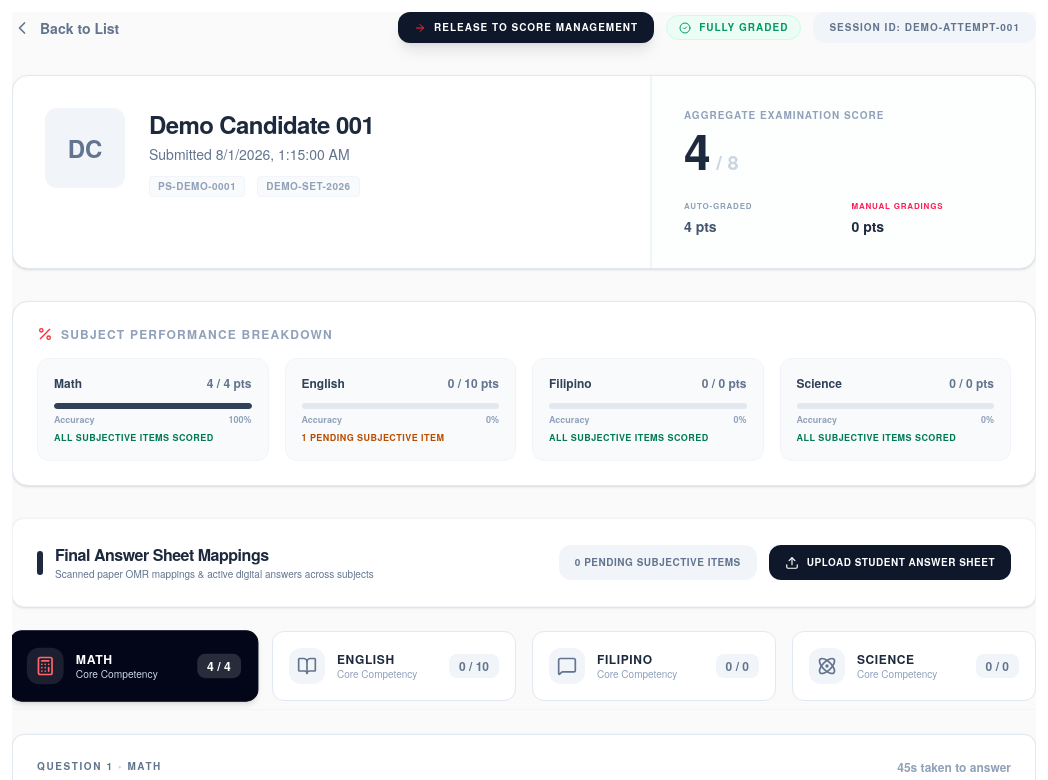
Test case: ExamReviewDetail › releases a completed graded review through the backend
Step 1. Click the button "Release to Score Management" → [526, 28], box 398,12 -> 654,43
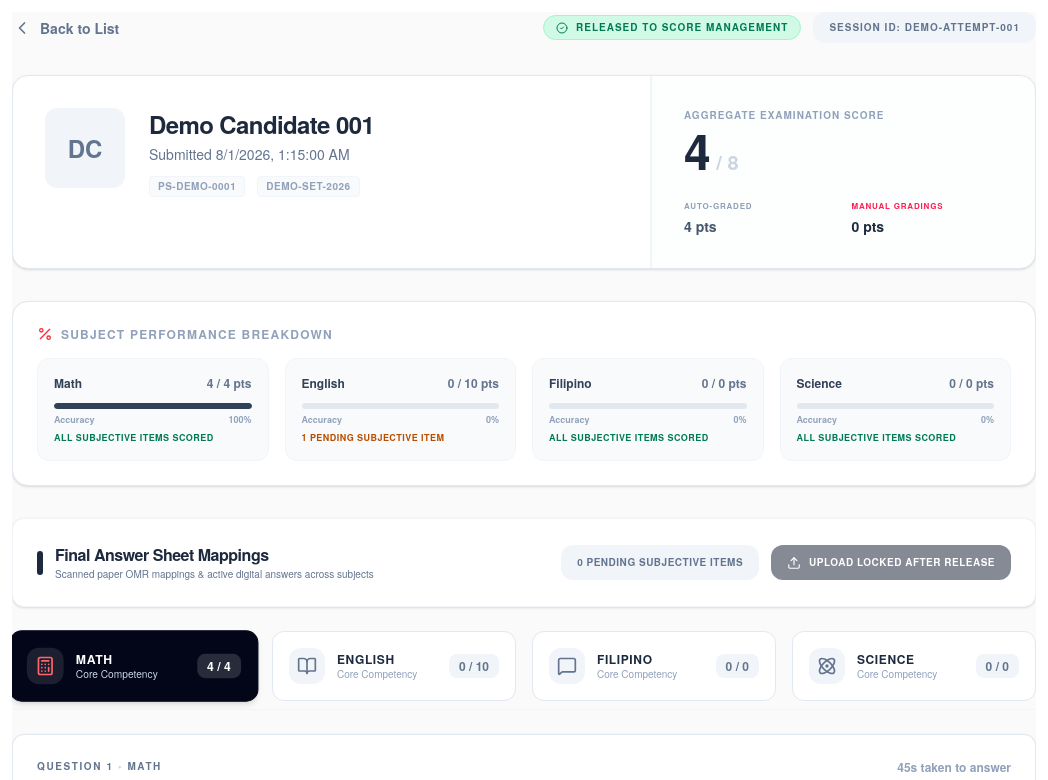
Check: the text "Released to Score Management" is shown, box 543,15 -> 801,40
